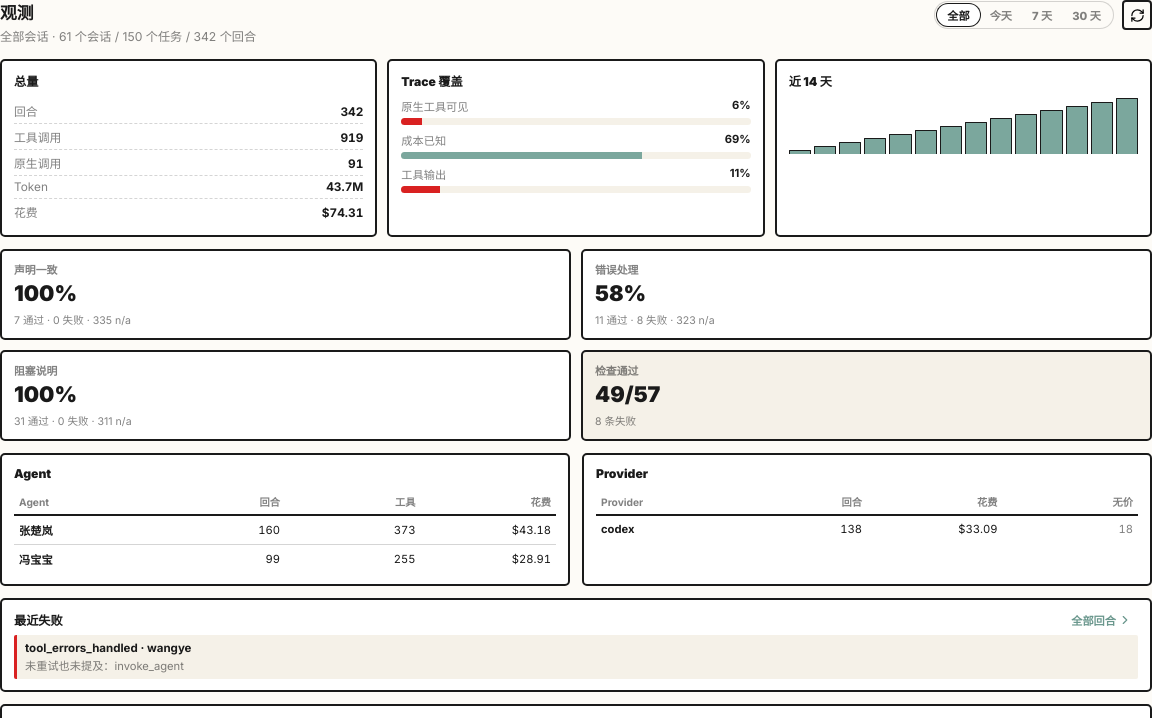
Scenario: ObservabilityOverview › opens a turn from the failure list
Expected: the text "全部会话 · 61 个会话 / 150 个任务 / 342 个回合" is shown, x1=0 y1=27 x2=256 y2=45
Click the button "tool_errors_handled · wangye 未重试也未提及：invoke_agent" at (81, 648), box x1=14 y1=635 x2=1138 y2=679
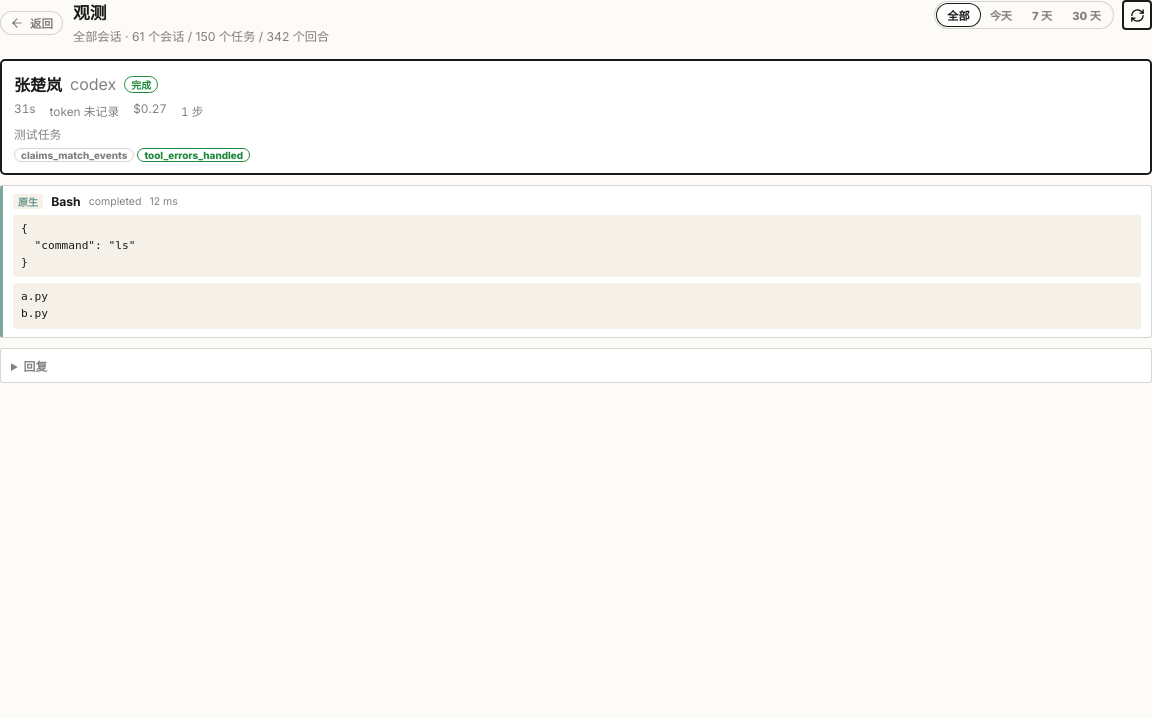
Result: the text "a.py b.py" is shown at x1=13 y1=283 x2=1141 y2=329
